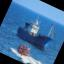fishing boat: (11, 2, 64, 55)
